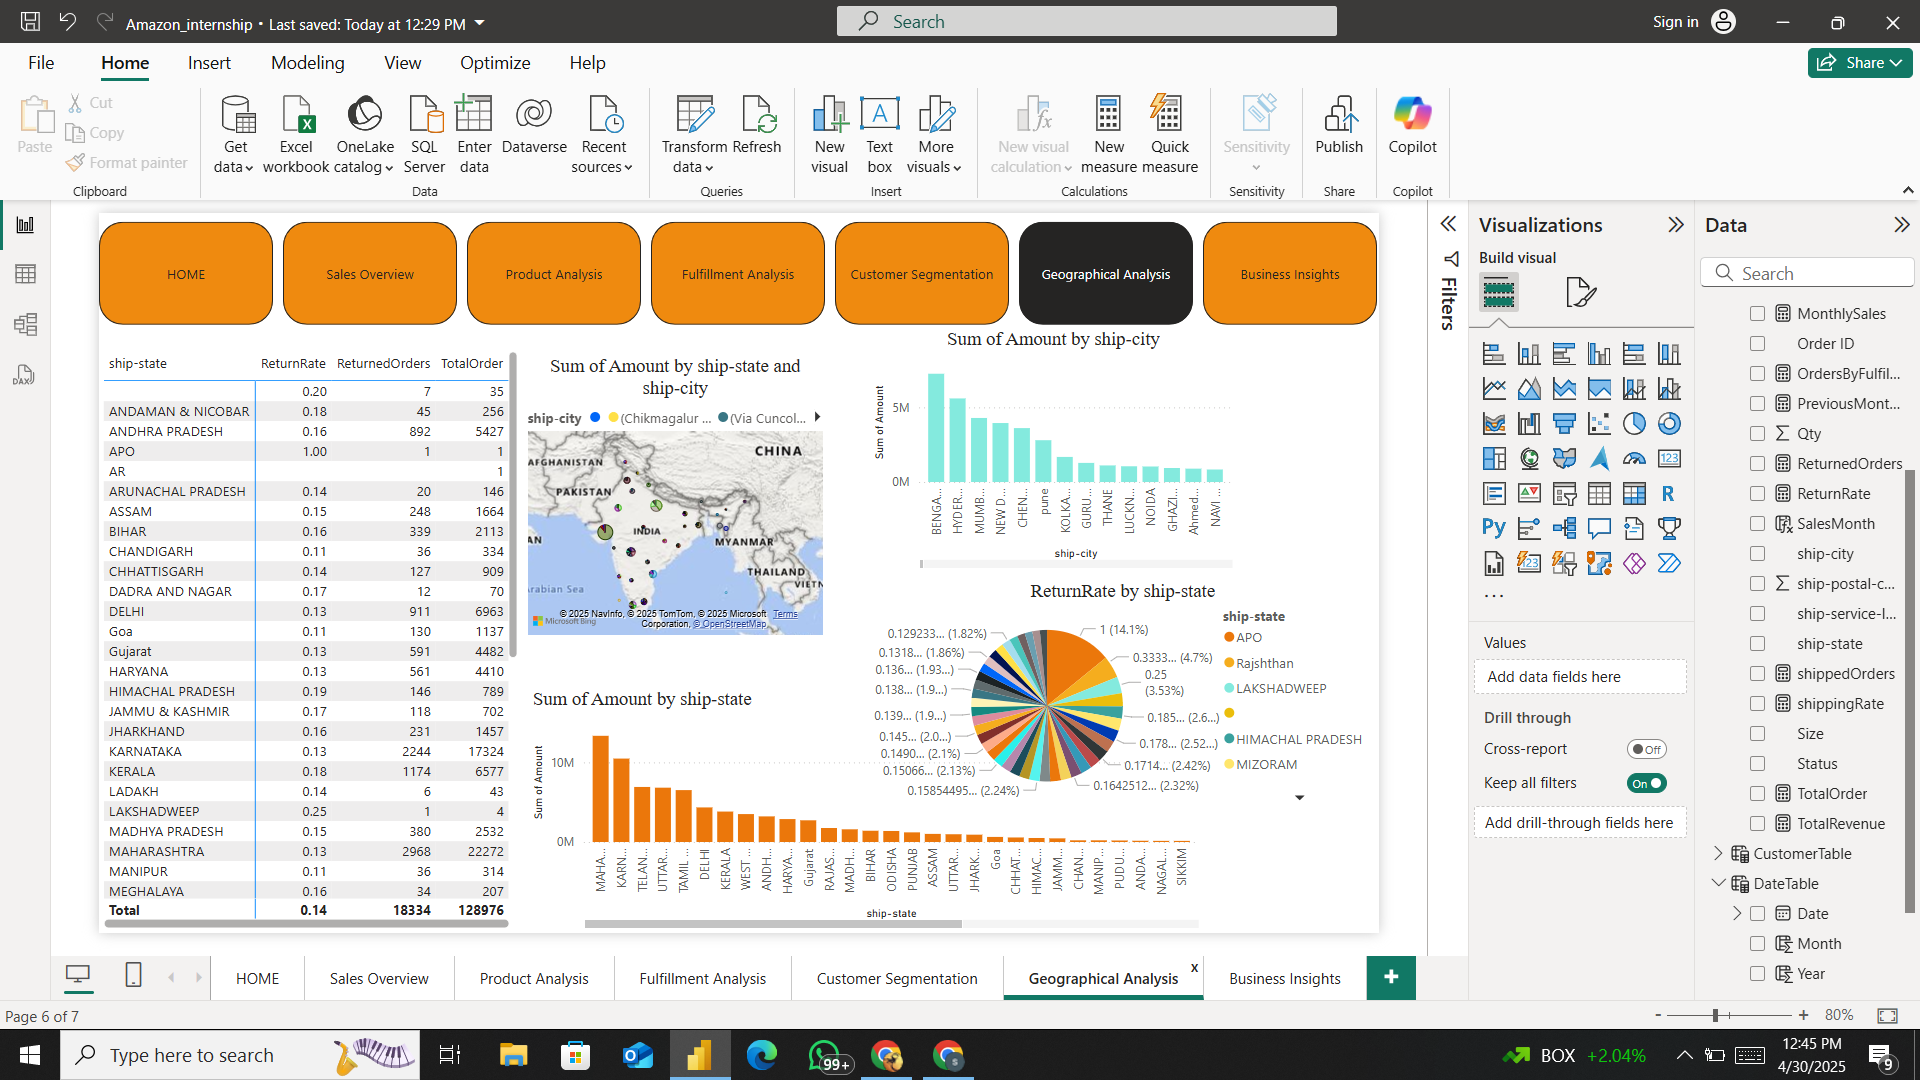

What the dashboard file says about the page in this screenshot:
{"tool":"powerbi","page":{"name":"Geographical Analysis","canvas":[1280,720],"ordinal":5},"visuals":[{"type":"columnChart","fields":{"Category":["cleaned_amazon_sales.ship-state"],"Y":["Sum(cleaned_amazon_sales.Amount)"]},"box":[428.8,475,676.2,245],"z":1000},{"type":"pivotTable","fields":{"Rows":["cleaned_amazon_sales.ship-state"],"Values":["cleaned_amazon_sales.ReturnRate","cleaned_amazon_sales.ReturnedOrders","cleaned_amazon_sales.TotalOrder"]},"box":[0,133.8,423.8,586.2],"z":2000},{"type":"columnChart","fields":{"Category":["cleaned_amazon_sales.ship-city"],"Y":["Sum(cleaned_amazon_sales.Amount)"]},"box":[770,115,368.8,245],"z":3000},{"type":"map","fields":{"Category":["cleaned_amazon_sales.ship-state"],"Series":["cleaned_amazon_sales.ship-city"],"Size":["Sum(cleaned_amazon_sales.Amount)"]},"box":[423.8,142.5,305,285],"z":4000},{"type":"pageNavigator","box":[0,8.3,1279.8,103.6],"z":4001},{"type":"pieChart","fields":{"Y":["cleaned_amazon_sales.ReturnRate"],"Category":["cleaned_amazon_sales.ship-state"]},"box":[767.5,367.5,512.5,230],"z":4002}]}

Visuals, with their boxes on the page's 1280x720 design canvas (x1, y1, x2, y2). These are canvas units, not pixel positions in the 1920x1080 screenshot, which may show the page scaled, cropped or inside an application window:
columnChart - cleaned_amazon_sales.ship-state x Sum(cleaned_amazon_sales.Amount): bbox=[429, 475, 1105, 720]
pivotTable - cleaned_amazon_sales.ship-state x cleaned_amazon_sales.ReturnRate: bbox=[0, 134, 424, 720]
columnChart - cleaned_amazon_sales.ship-city x Sum(cleaned_amazon_sales.Amount): bbox=[770, 115, 1139, 360]
map - cleaned_amazon_sales.ship-state x cleaned_amazon_sales.ship-city: bbox=[424, 142, 729, 428]
pageNavigator: bbox=[0, 8, 1280, 112]
pieChart - cleaned_amazon_sales.ReturnRate x cleaned_amazon_sales.ship-state: bbox=[768, 368, 1280, 598]
